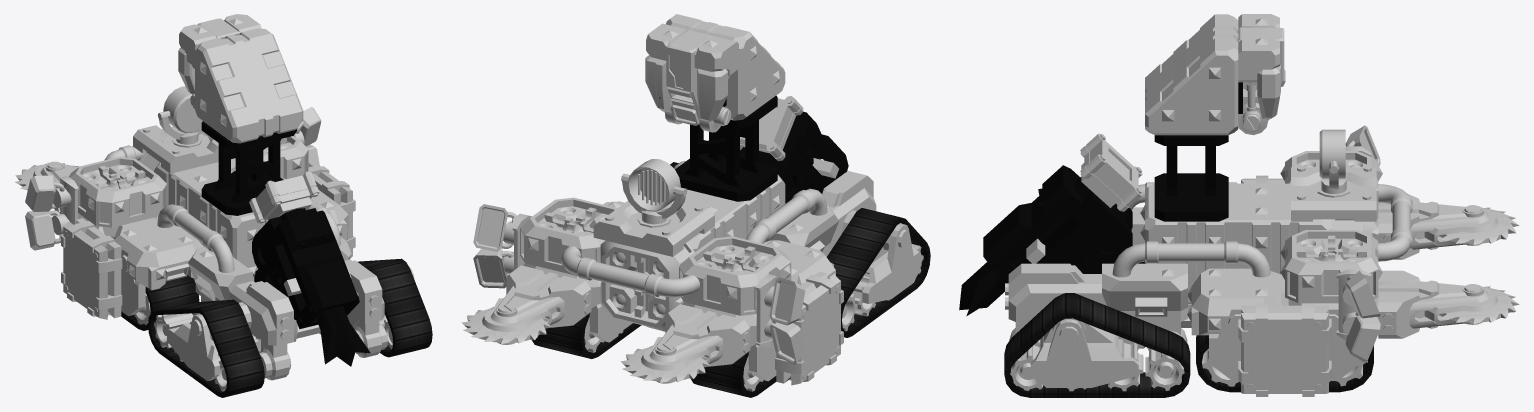
Rendered from GC_ExampleTech.fbx.
3 renders of one model, left to right at view 1: azimuth 30°, elevation 25°; view 2: azimuth 150°, elevation 25°; view 3: azimuth 270°, elevation 25°, orthographic. The views are drawn at different scales.
Parts seen in each view (by area): view 1: GC_ExampleTech, GC_ExampleTech_Tracks; view 2: GC_ExampleTech, GC_ExampleTech_Tracks; view 3: GC_ExampleTech, GC_ExampleTech_Tracks.
Part boxes in pixels (bbox=[...]): GC_ExampleTech: bbox=[15, 14, 414, 391]; GC_ExampleTech_Tracks: bbox=[121, 258, 432, 397]; GC_ExampleTech: bbox=[461, 14, 923, 391]; GC_ExampleTech_Tracks: bbox=[532, 162, 930, 397]; GC_ExampleTech: bbox=[959, 14, 1519, 396]; GC_ExampleTech_Tracks: bbox=[1004, 293, 1373, 397].
Size of the model in its own units: 805 by 741 by 1201.
